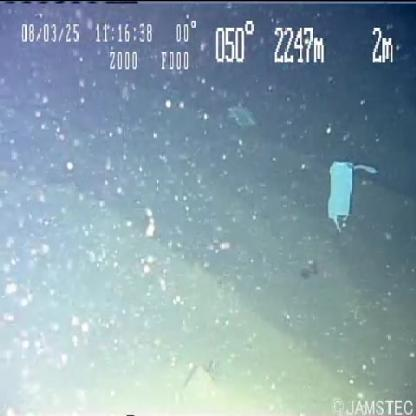Rác: (328, 162, 355, 220)
